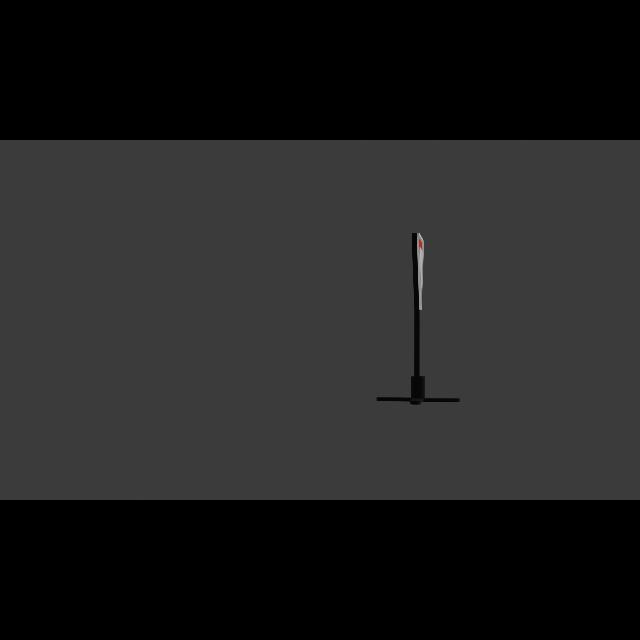sign_yield: (415, 234, 428, 312)
